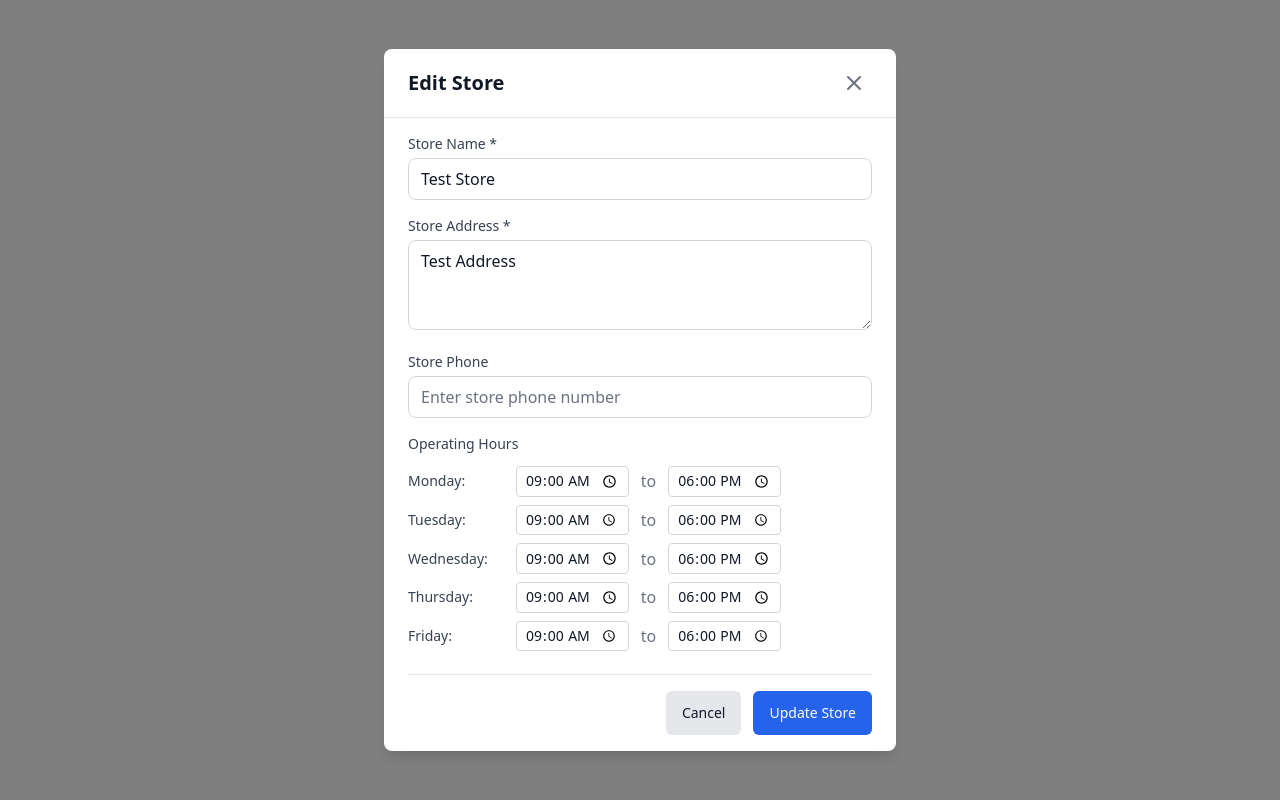
Store Management Frontend (Tasks 51-53) › Task 53: Store Editing › should prevent removing required fields during edit
The width and height of the screenshot is (1280, 800).
# Try to clear required fields
Clear the field showing "Test Store" at (640, 179), box [408,158,872,200]
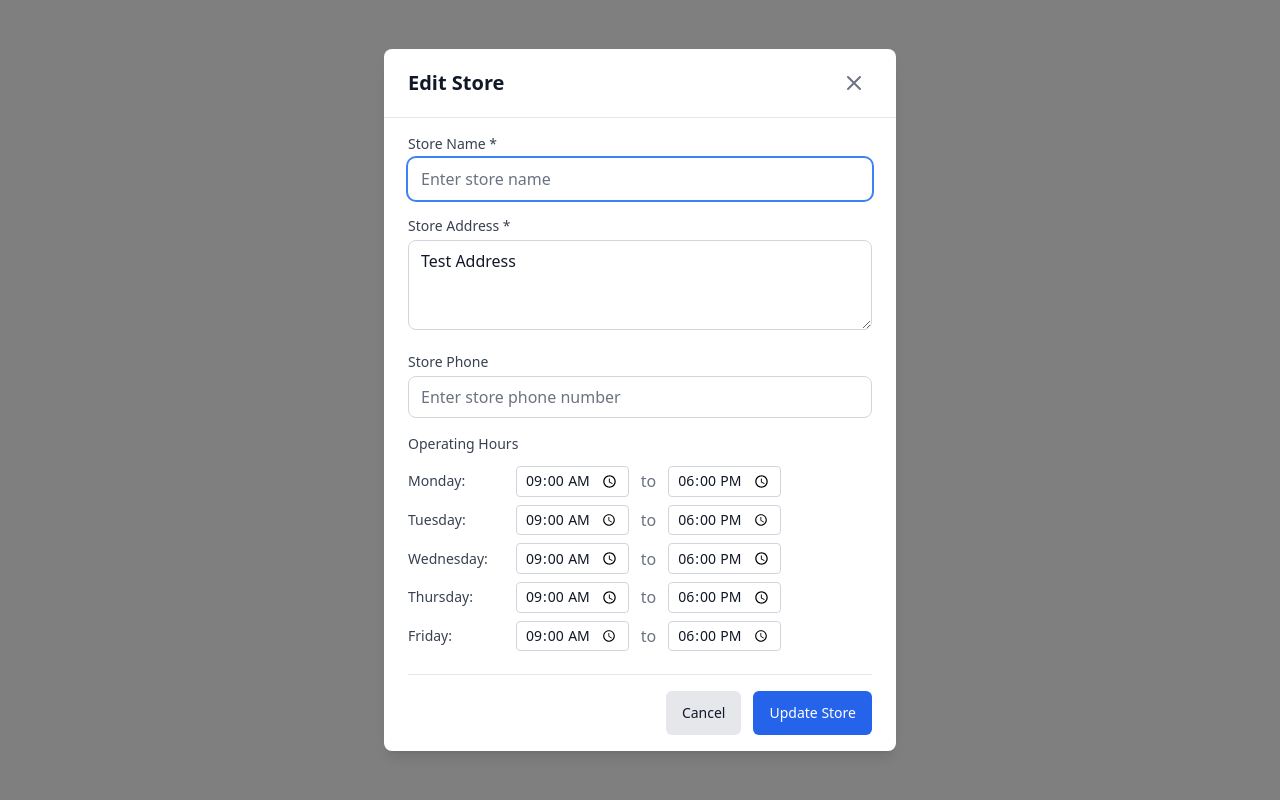
Clear the text box showing "Test Address" at (640, 285), box [408,240,872,330]
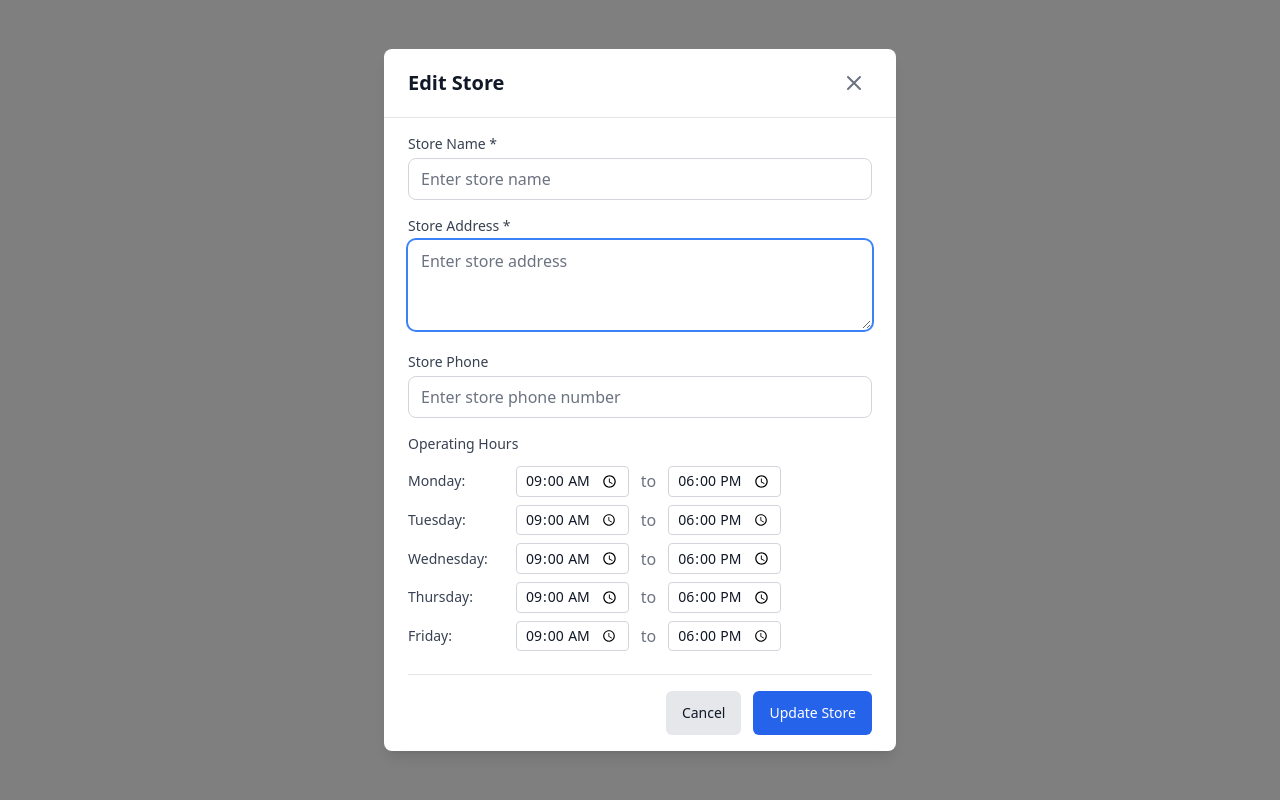
Click the button "Update Store" at (813, 713), box [754,691,872,735]
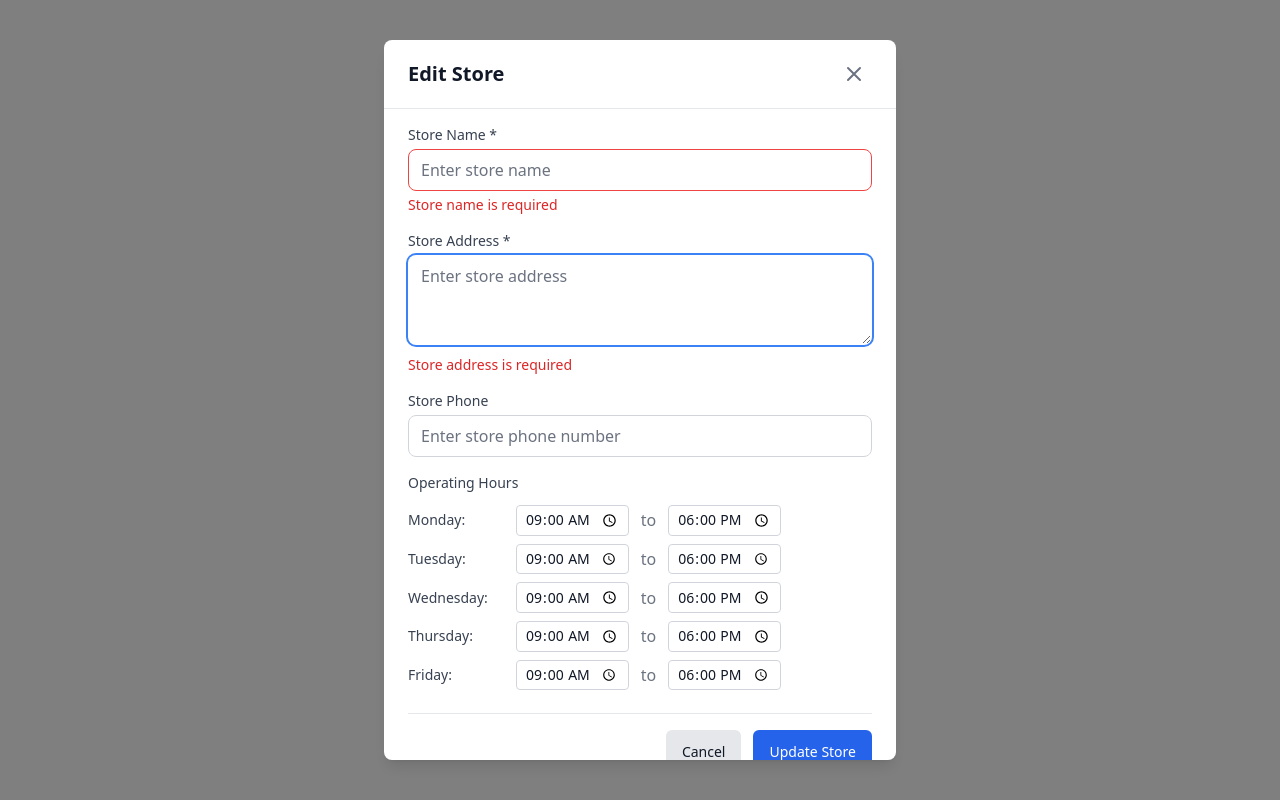
Result: the text "Store name is required" is shown at [408,195,558,214]
Result: the text "Store address is required" is shown at [408,355,572,374]
